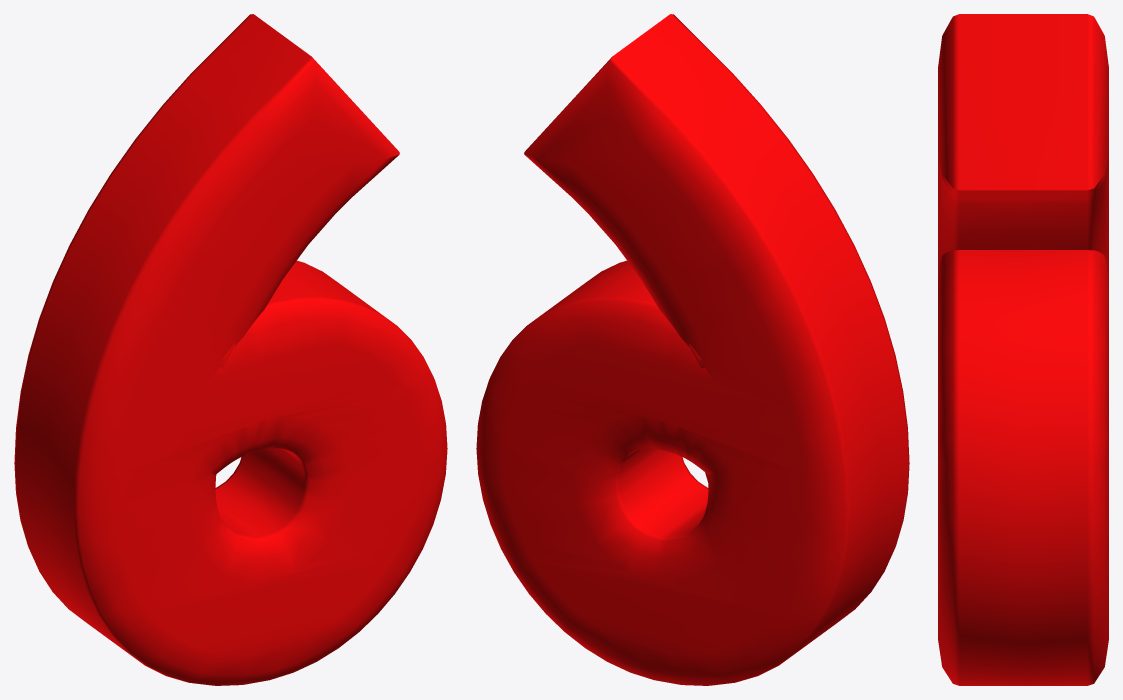
3 views of the same model, side by side, from view 1: azimuth 30°, elevation 25°; view 2: azimuth 150°, elevation 25°; view 3: azimuth 270°, elevation 25° (orthographic). The views are drawn at different scales.
Parts seen in each view (by area): view 1: 6_Numbers007_0; view 2: 6_Numbers007_0; view 3: 6_Numbers007_0.
Boxes of the visible parts, <box> form: 6_Numbers007_0: <box>14,14,447,685</box>; 6_Numbers007_0: <box>476,14,909,685</box>; 6_Numbers007_0: <box>938,14,1108,685</box>.
Size of the model in its own units: 0.2606 by 0.4093 by 0.0938.
